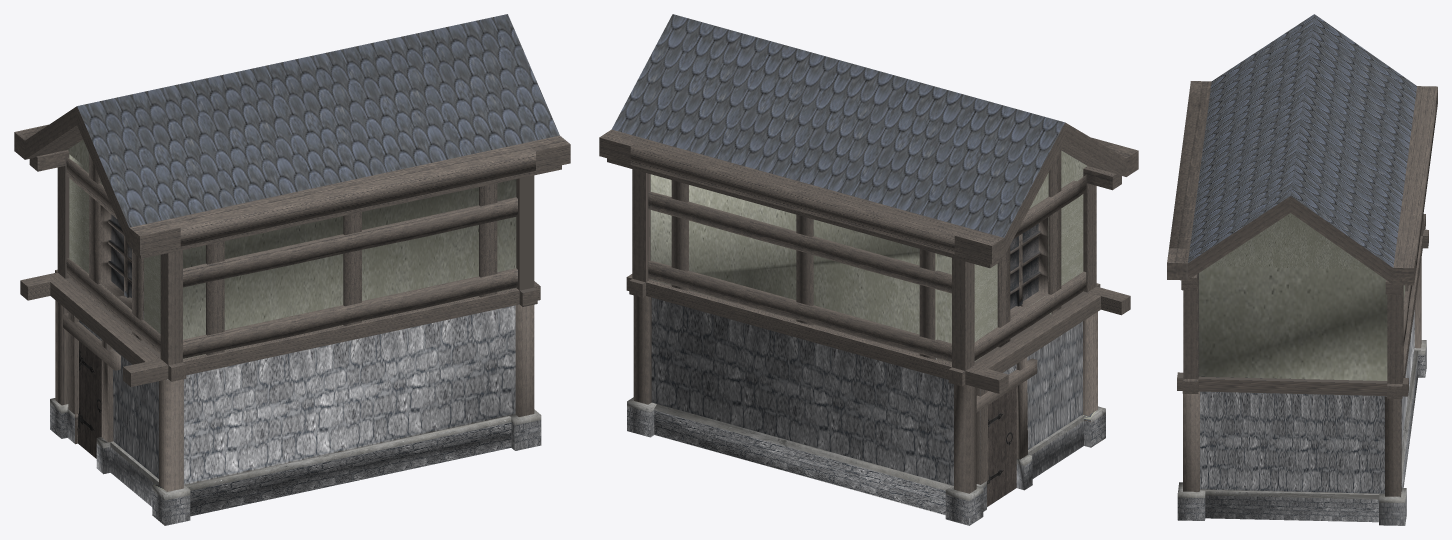
File: house.fbx
3 views of the same model, side by side, from view 1: azimuth 30°, elevation 25°; view 2: azimuth 150°, elevation 25°; view 3: azimuth 270°, elevation 25° (orthographic). The views are drawn at different scales.
Parts seen in each view (by area): view 1: House 2sturi; view 2: House 2sturi; view 3: House 2sturi.
Boxes of the visible parts, x1,y1,x2,y2 form: House 2sturi: (14,14,570,525); House 2sturi: (599,14,1138,525); House 2sturi: (1167,14,1437,525).
Size of the model in its own units: 243 by 204 by 148.
1 material, 1 textured.
